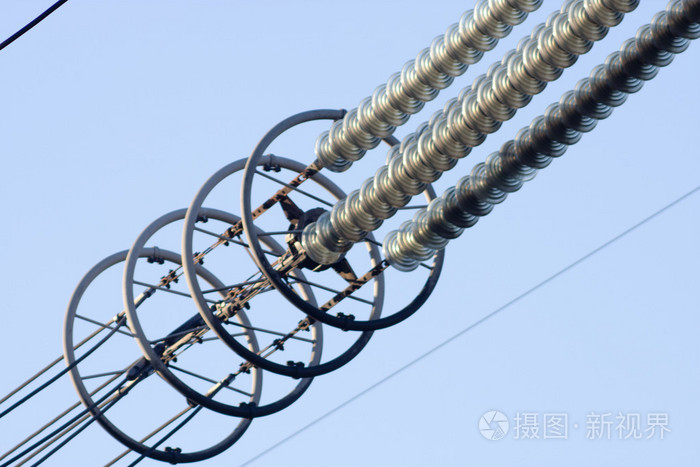insulator: (303, 2, 700, 273)
